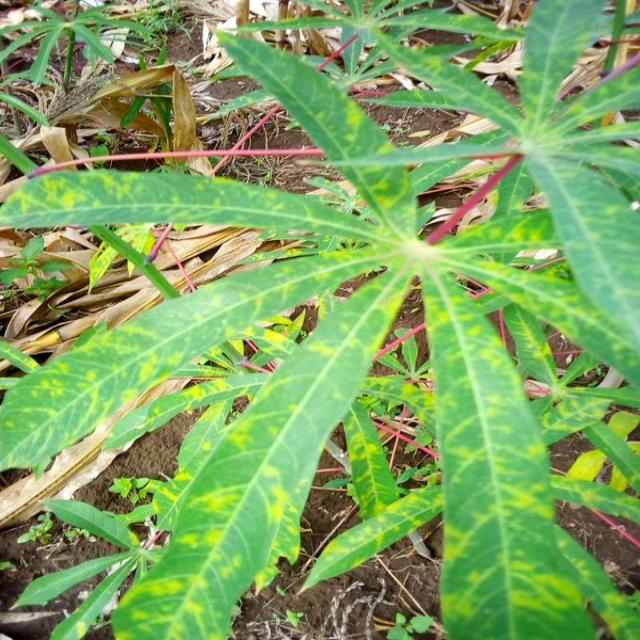cassava leaf: (1, 1, 638, 638), (108, 261, 410, 638)
